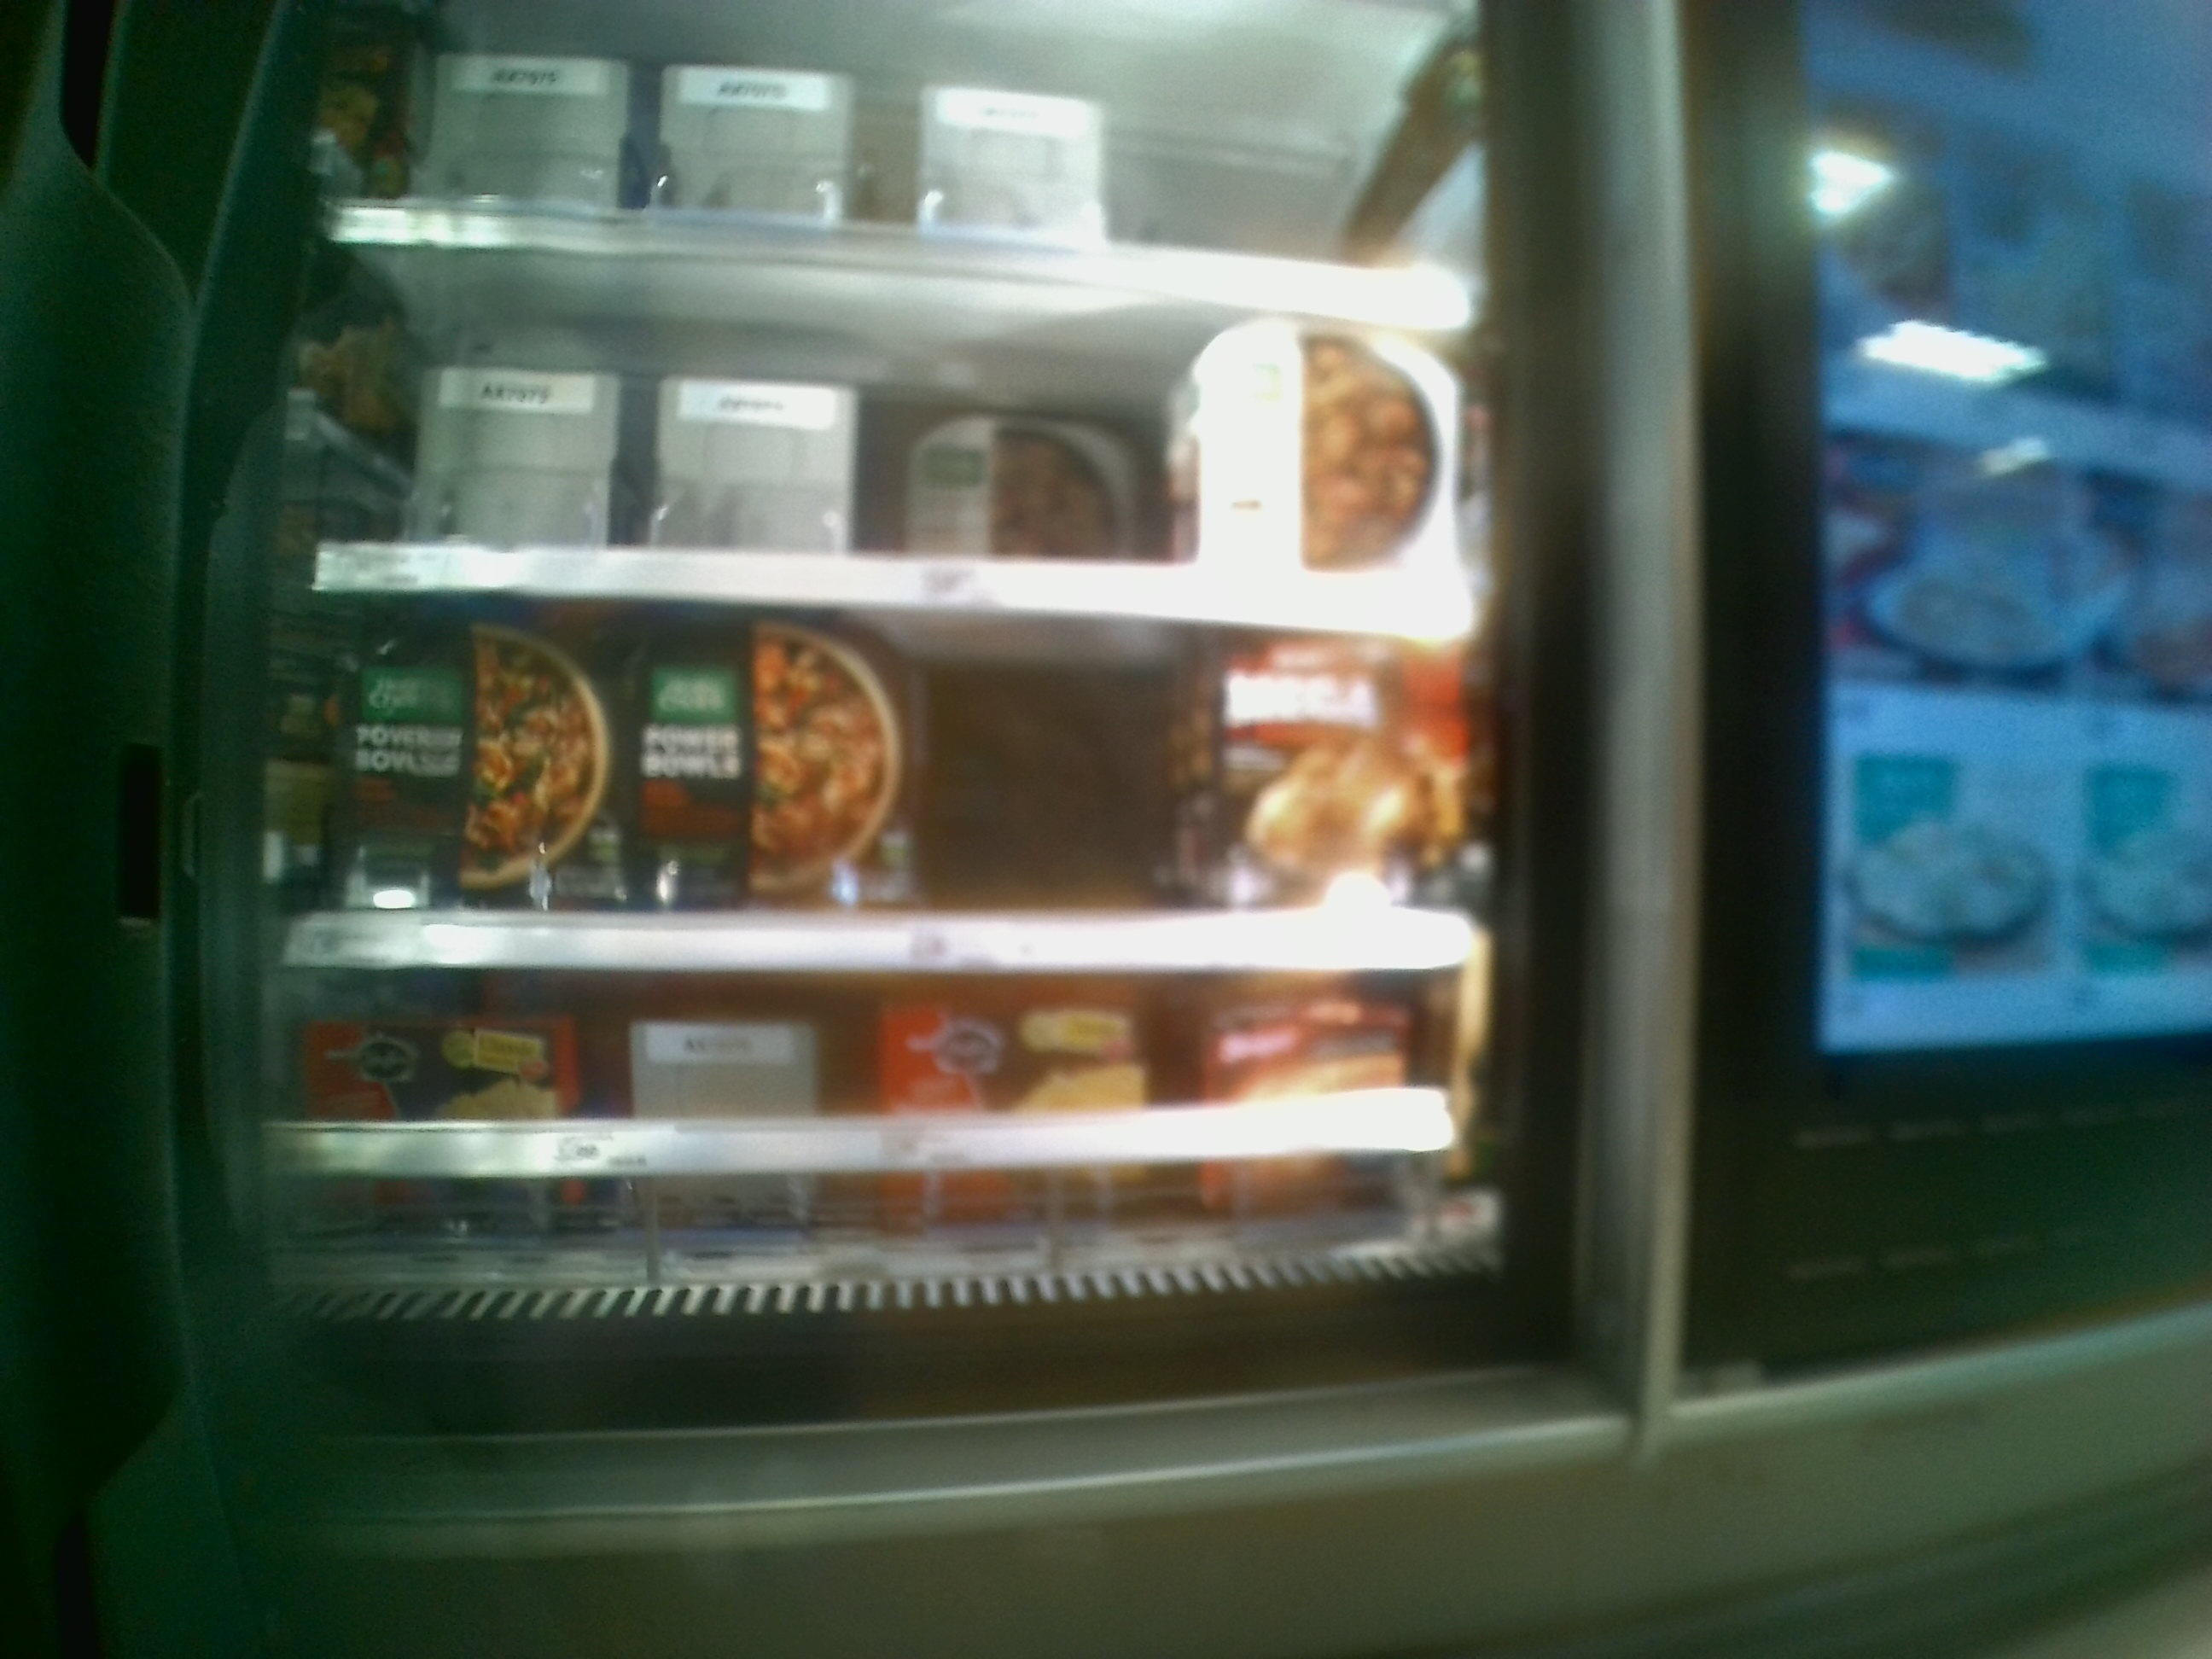Shelf: (291, 598, 1474, 972), (315, 242, 1470, 622), (275, 978, 1493, 1324)
